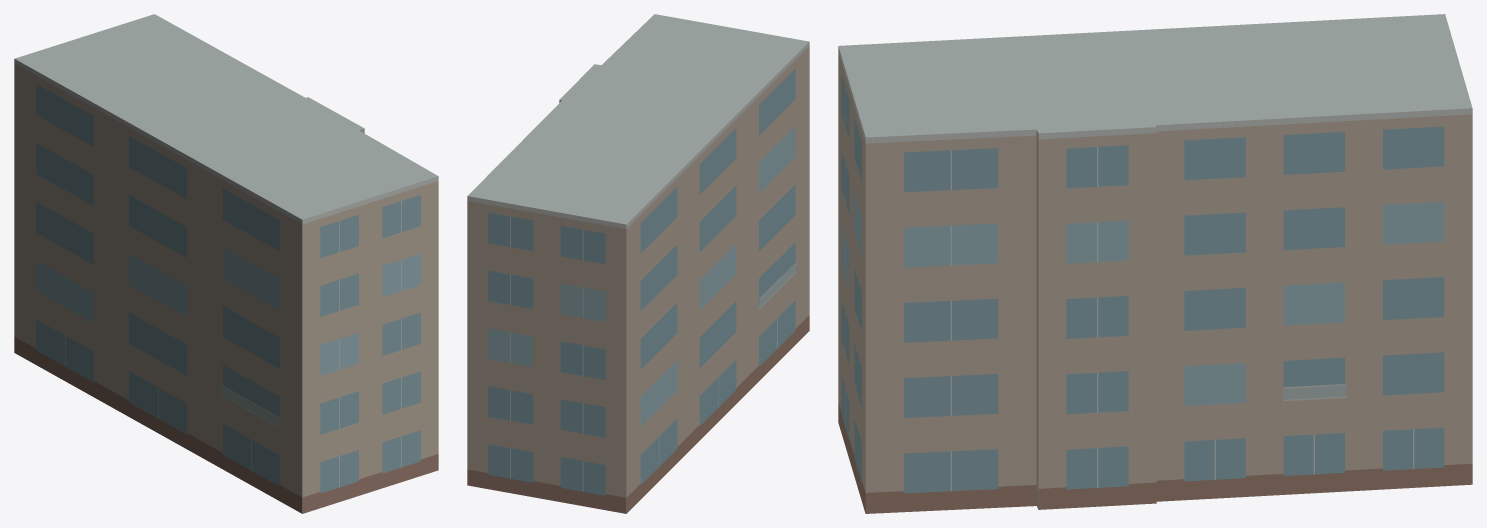
The model's file is survey-upis-32908185.glb.
The picture shows the model from 3 angles, left to right: view 1: azimuth 30°, elevation 25°; view 2: azimuth 150°, elevation 25°; view 3: azimuth 270°, elevation 25°; orthographic projection. The views are drawn at different scales.
Visible parts, largest first — view 1: survey-upis-32908185.tmp; view 2: survey-upis-32908185.tmp; view 3: survey-upis-32908185.tmp.
Part boxes in pixels (left/top/right/bottom): survey-upis-32908185.tmp: left=14, top=14, right=438, bottom=513; survey-upis-32908185.tmp: left=467, top=14, right=809, bottom=513; survey-upis-32908185.tmp: left=838, top=14, right=1472, bottom=513.
Size of the model in its own units: 10.74 by 15.25 by 23.3.
